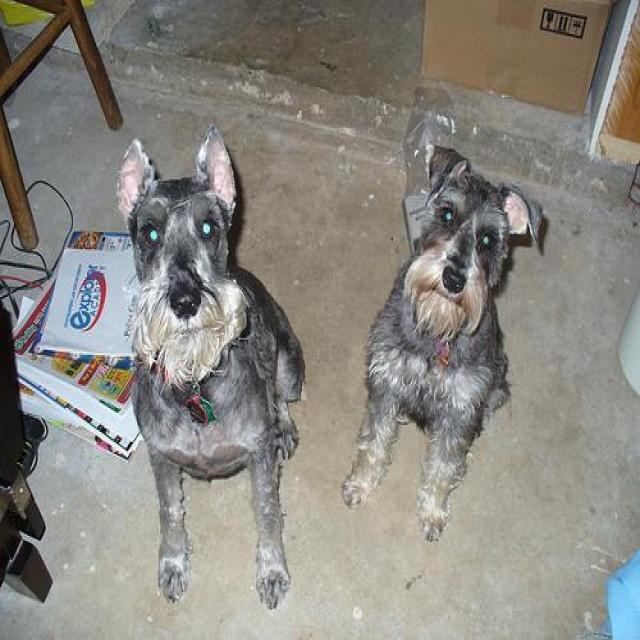standard_schnauzer: (115, 123, 305, 613), (348, 135, 526, 510)
